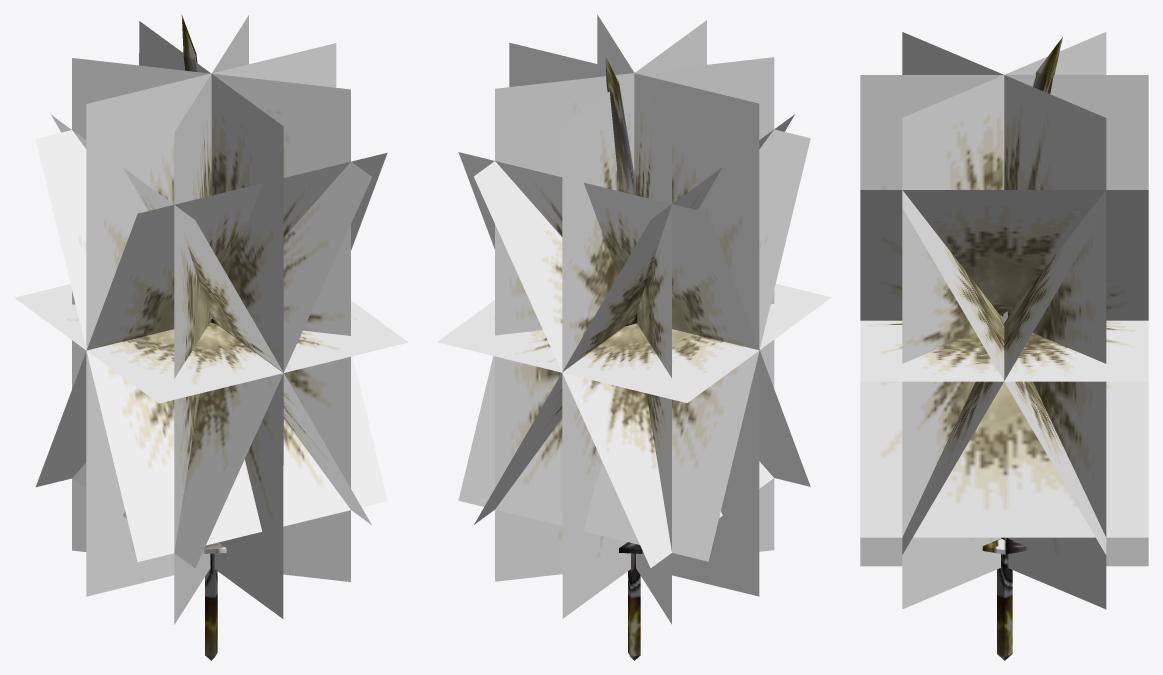
Rendered from heavybladev06_1.obj.
3 renders of one model, left to right at view 1: azimuth 30°, elevation 25°; view 2: azimuth 150°, elevation 25°; view 3: azimuth 270°, elevation 25°, orthographic.
Visible parts, largest first — view 1: MDL_cw2hkt06_1; view 2: MDL_cw2hkt06_1; view 3: MDL_cw2hkt06_1.
Part boxes in pixels (bbox=[...]): MDL_cw2hkt06_1: bbox=[14, 14, 408, 660]; MDL_cw2hkt06_1: bbox=[437, 14, 831, 660]; MDL_cw2hkt06_1: bbox=[860, 32, 1148, 660].
Bounding box in the file's own units: 0.735 × 1.76 × 0.7362.
